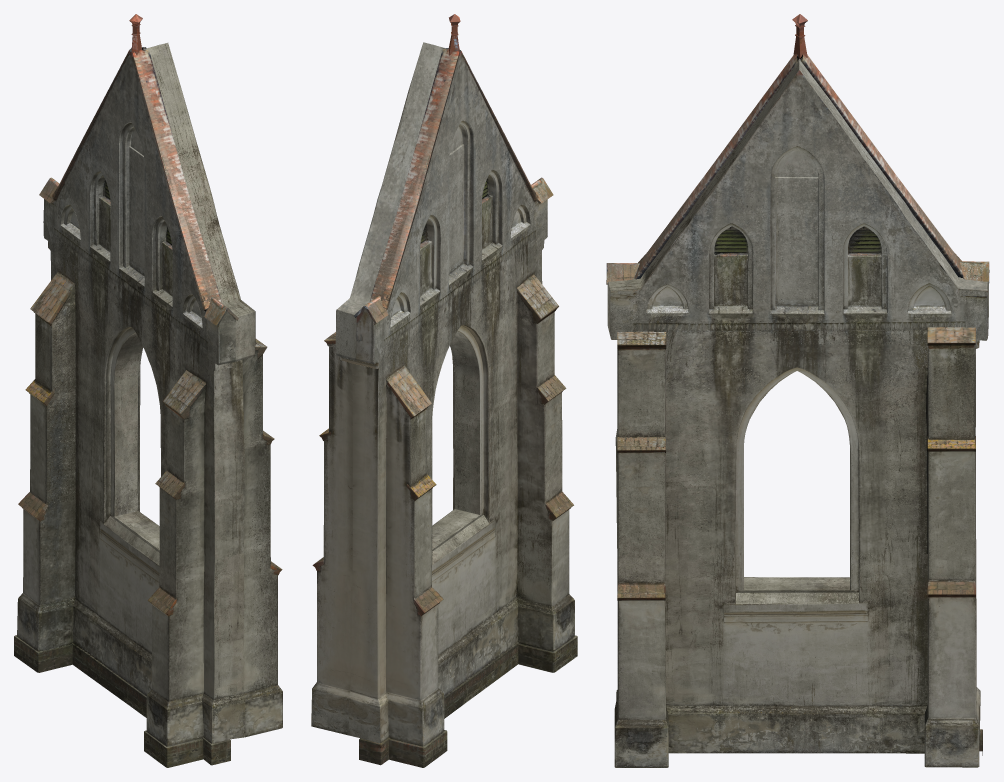
File: sm_Church_01_19.fbx
3 renders of one model, left to right at view 1: azimuth 30°, elevation 25°; view 2: azimuth 150°, elevation 25°; view 3: azimuth 270°, elevation 25°, orthographic. The views are drawn at different scales.
Visible parts, largest first — view 1: sm_Church_01_19_LOD0; view 2: sm_Church_01_19_LOD0; view 3: sm_Church_01_19_LOD0.
Part boxes in pixels (x1=…): sm_Church_01_19_LOD0: x1=14, y1=14, x2=282, y2=767; sm_Church_01_19_LOD0: x1=311, y1=14, x2=577, y2=767; sm_Church_01_19_LOD0: x1=606, y1=14, x2=989, y2=767.
Bounding box in the file's own units: 223 × 631 × 1350.
